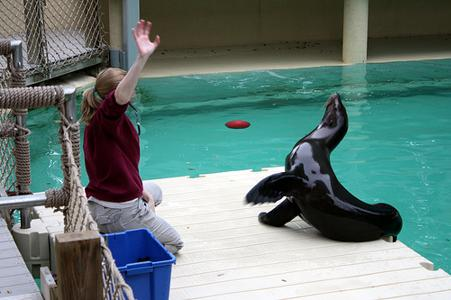person: (83, 21, 183, 257)
